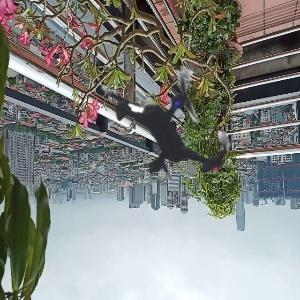drone: (66, 20, 279, 233)
